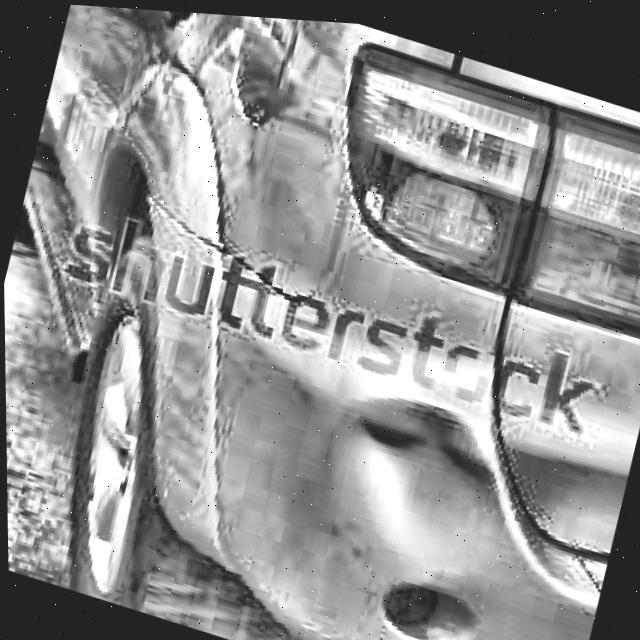bumper_dent: (321, 378, 502, 564)
